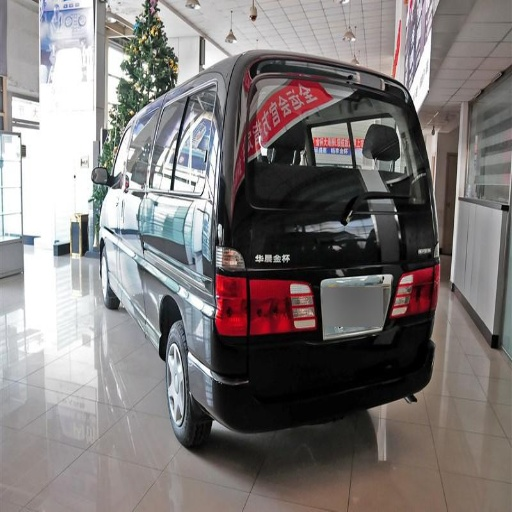back_bumper: (194, 311, 434, 442)
back_glass: (252, 177, 353, 230)
tailgate: (337, 93, 404, 166)
trunk: (253, 243, 395, 365)
